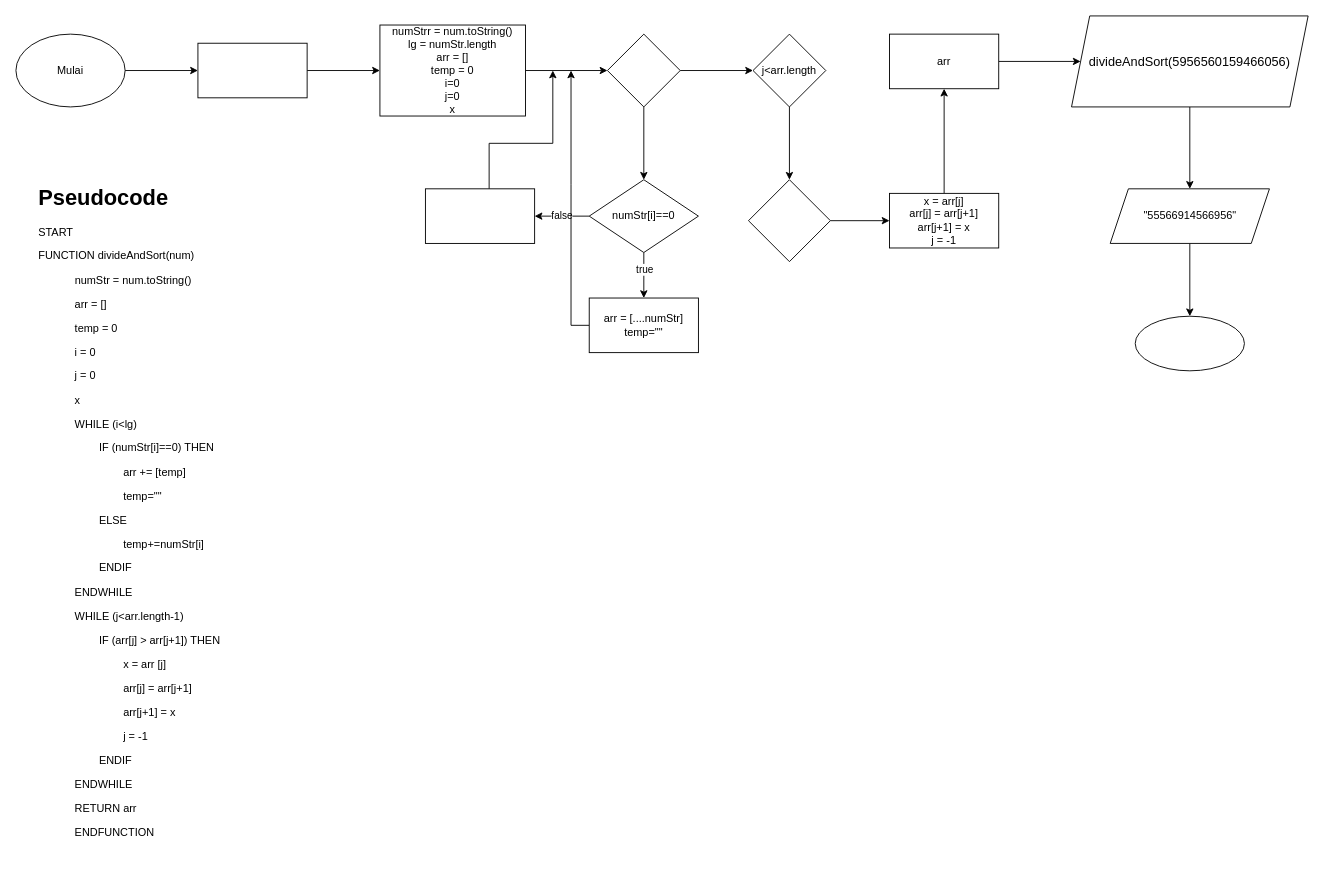
Some shapes in this 1324 by 869 pixel diagram are drawn without their labels. Each missing label, with the box of its shape:
arr[j] > arr[j+1]: (748, 179, 830, 262)
Function divideAndSort(num): (197, 42, 307, 98)
i<lg: (607, 33, 680, 107)
Selesai: (1134, 315, 1244, 371)
temp += numStr[i]: (425, 188, 535, 243)
